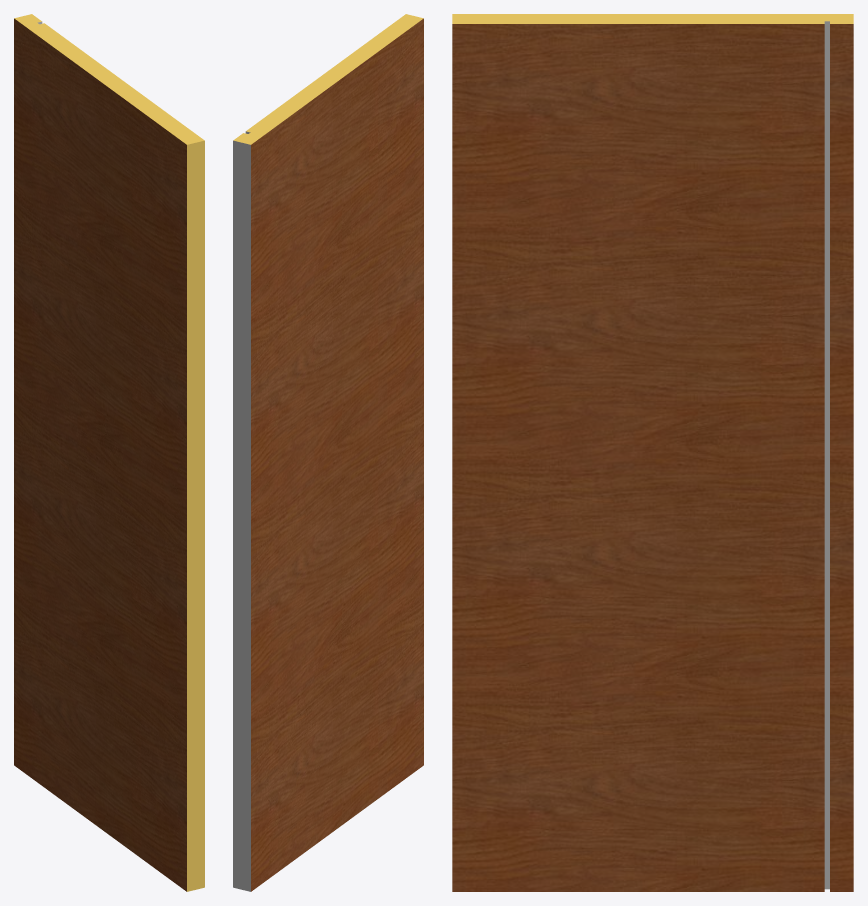
File: original-5.obj
3 renders of one model, left to right at view 1: azimuth 30°, elevation 25°; view 2: azimuth 150°, elevation 25°; view 3: azimuth 270°, elevation 25°, orthographic. The views are drawn at different scales.
Parts seen in each view (by area): view 1: Left_Side_2_1/Left_Side_2/mesh11/mesh11-geometry#mesh11-geometry; view 2: Left_Side_2_1/Left_Side_2/mesh11/mesh11-geometry#mesh11-geometry; view 3: Left_Side_2_1/Left_Side_2/mesh11/mesh11-geometry#mesh11-geometry.
Boxes of the visible parts, bbox=[...] form: Left_Side_2_1/Left_Side_2/mesh11/mesh11-geometry#mesh11-geometry: bbox=[14, 14, 204, 891]; Left_Side_2_1/Left_Side_2/mesh11/mesh11-geometry#mesh11-geometry: bbox=[233, 14, 423, 891]; Left_Side_2_1/Left_Side_2/mesh11/mesh11-geometry#mesh11-geometry: bbox=[452, 14, 853, 891].
Bounding box in the file's own units: 0.0442 × 1.77 × 0.741.
